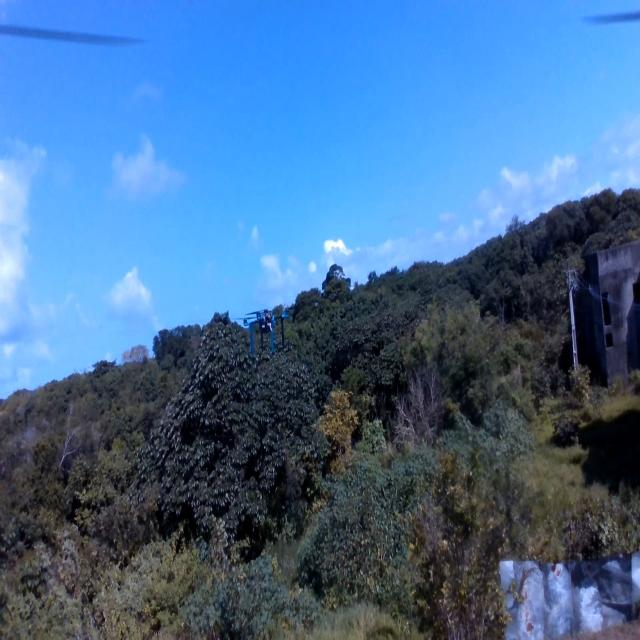-uav-: (232, 292, 303, 373)
